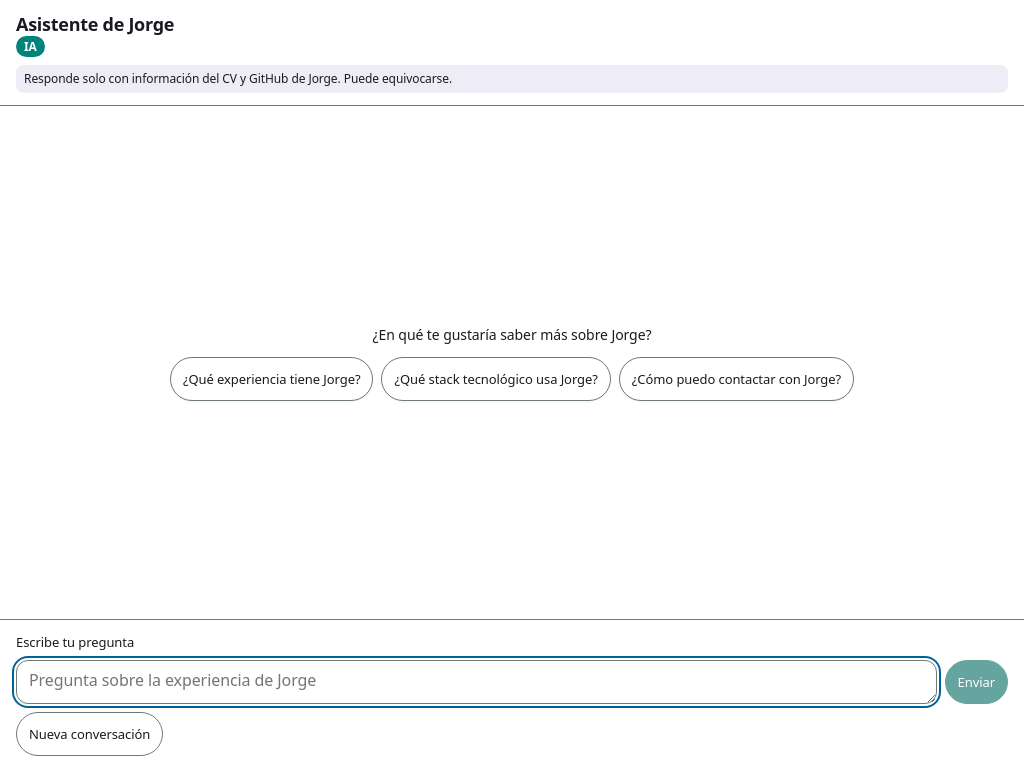
Test case: RF-F41 — una única región de estado › keeps the message list out of the live regions
Type "¿Qué usa Jorge?" into the text box labelled "Escribe tu pregunta" at point(476, 682), box [16,660,937,704]
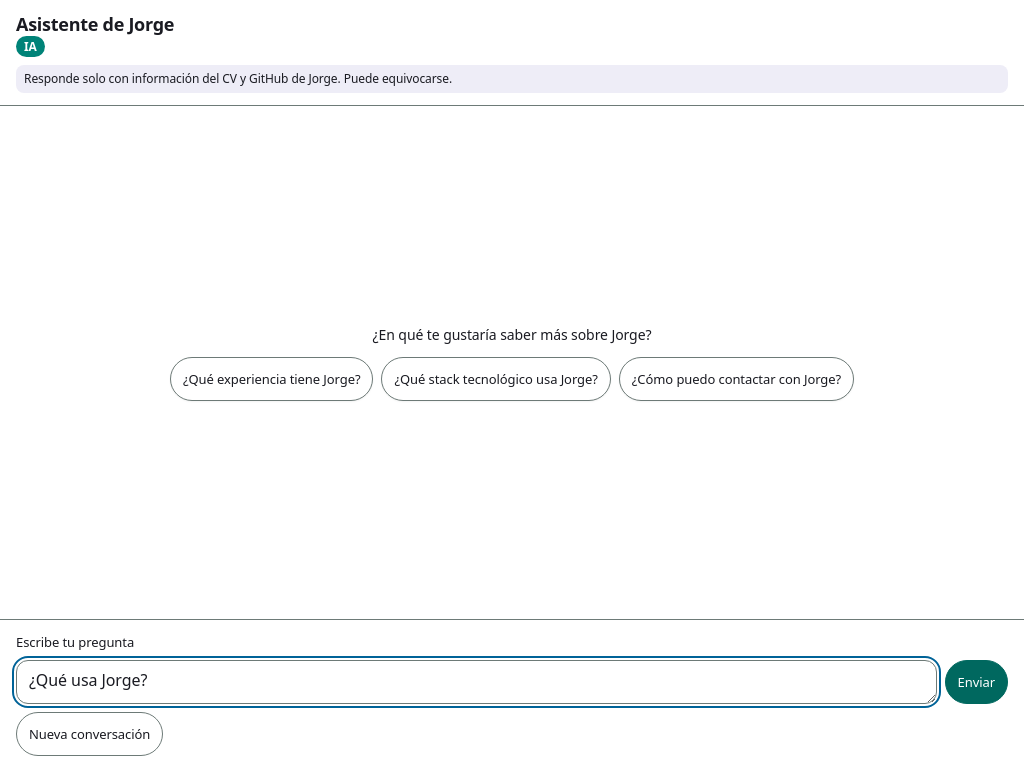
Click the button with aria-label "Enviar pregunta" at point(976, 682), box [945,660,1008,704]
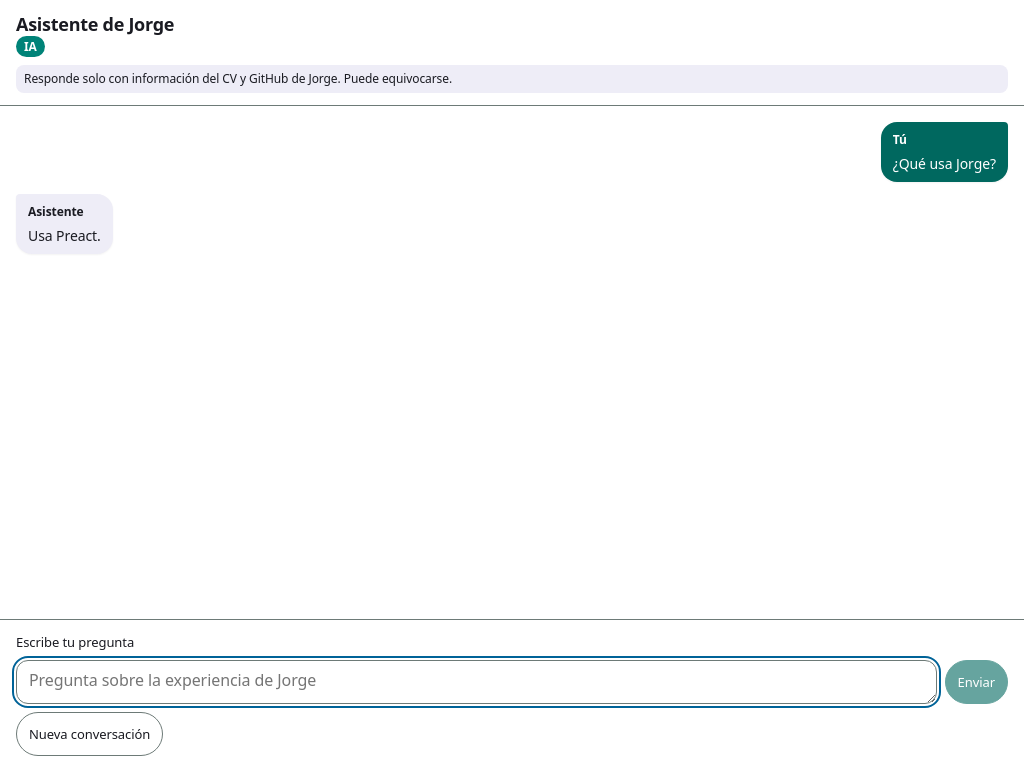
Check: the list is shown, box [16,122,1008,254]
